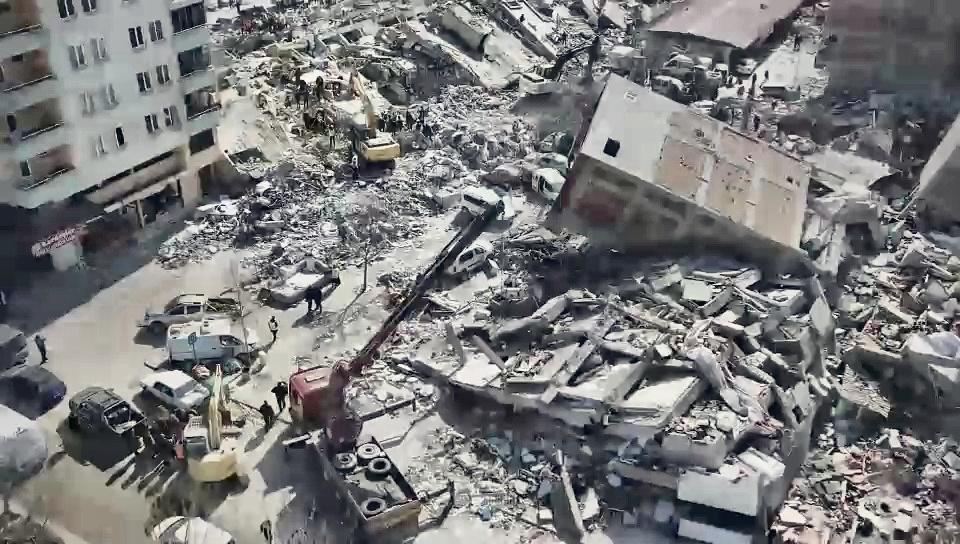kapali: (63, 50, 610, 371)
